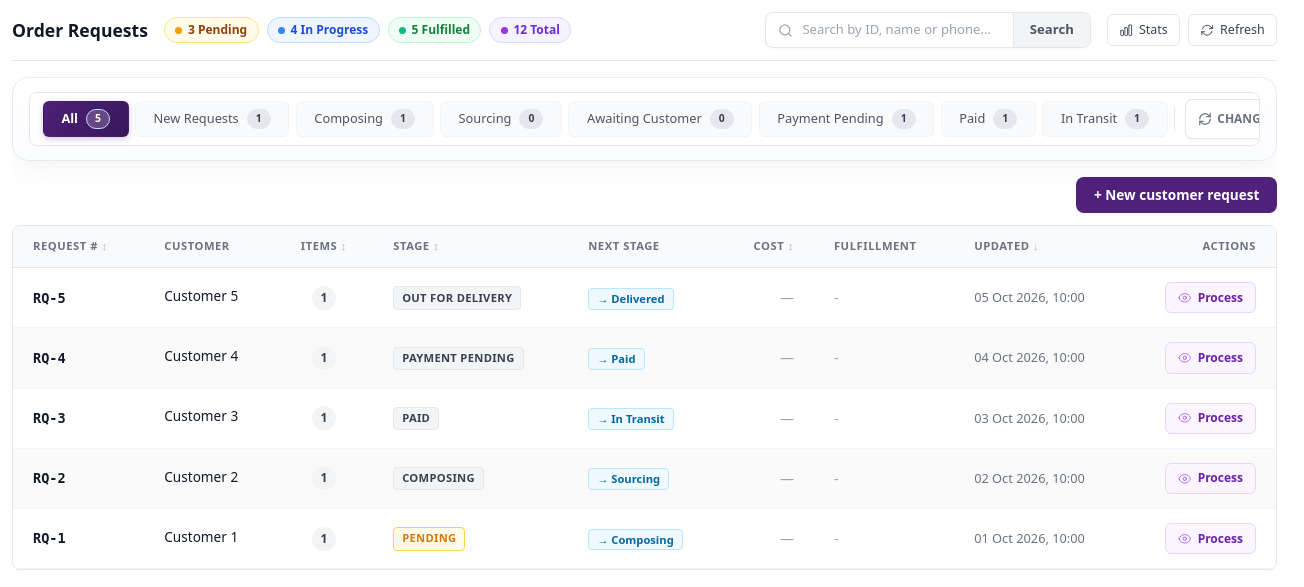
Scenario: request list: searching › clearing the search lists everything again
This screenshot has width=1304, height=587.
In the field with placeholder "Search by ID, name or phone…": (903, 30) [793, 13, 1013, 47], type "kofi"
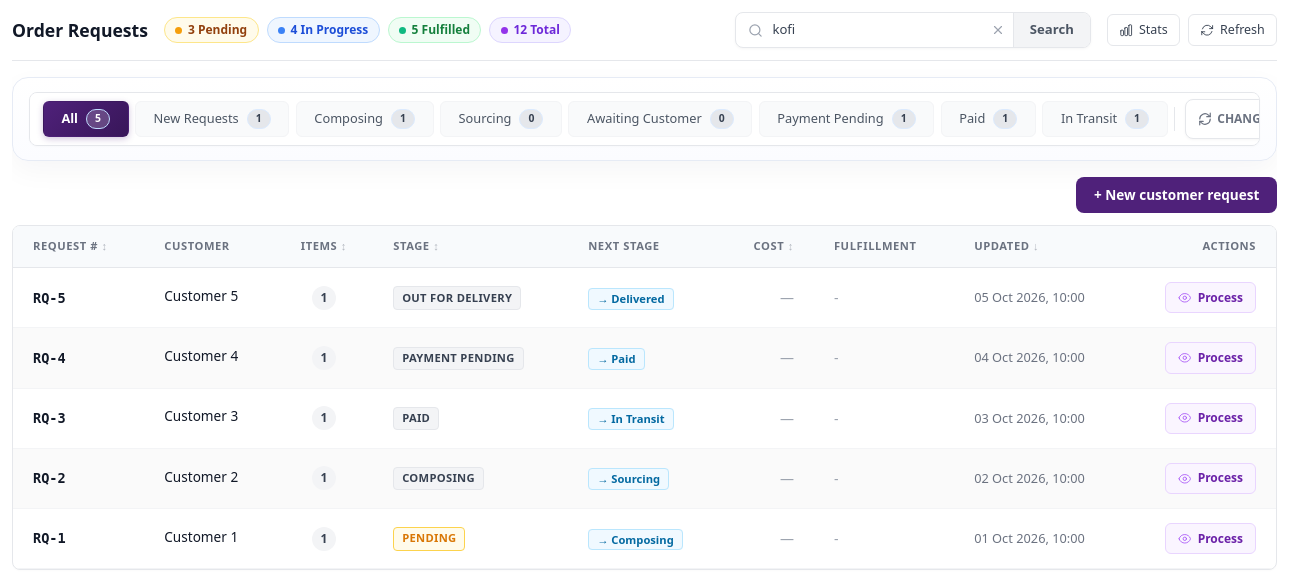
Click the button titled "Clear search": (998, 30) [983, 17, 1013, 43]
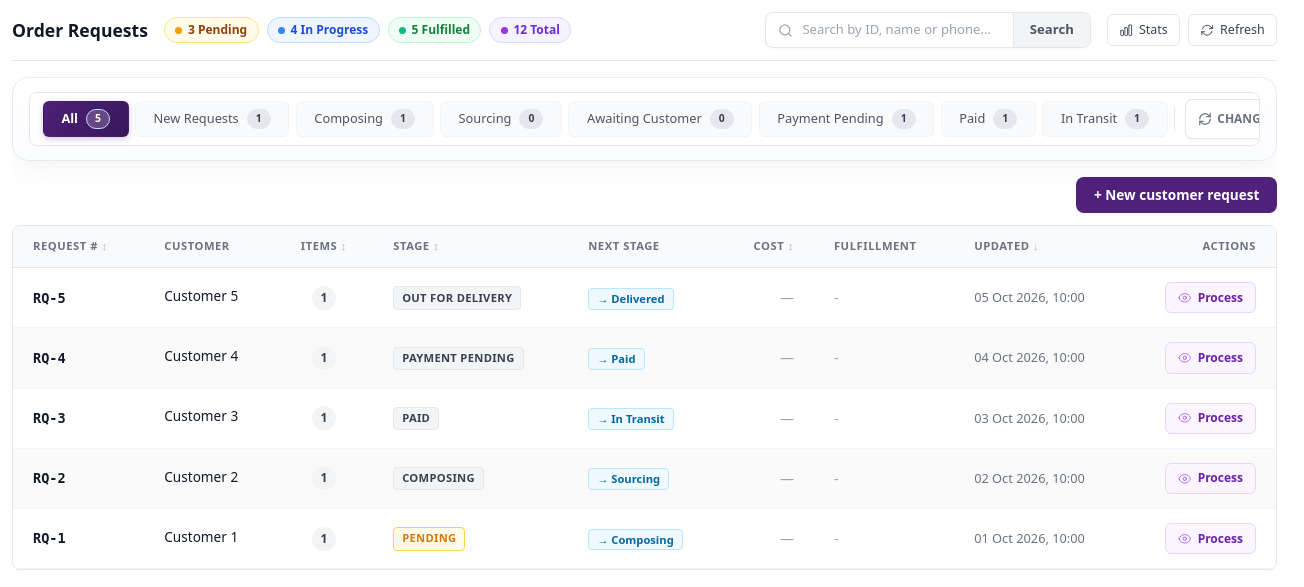
expect the field with placeholder "Search by ID, name or phone…" is empty: met, box [793, 13, 1013, 47]
